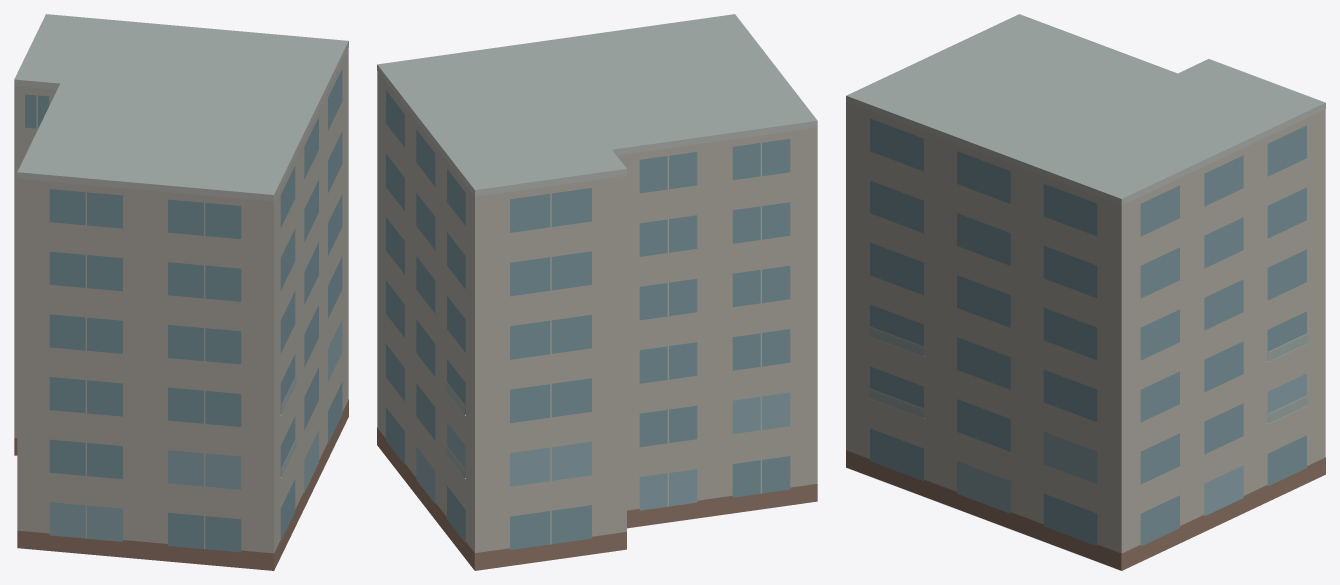
File: survey-upis-33042343.glb
3 renders of one model, left to right at view 1: azimuth 30°, elevation 25°; view 2: azimuth 150°, elevation 25°; view 3: azimuth 270°, elevation 25°, orthographic. The views are drawn at different scales.
Visible parts, largest first — view 1: survey-upis-33042343.tmp; view 2: survey-upis-33042343.tmp; view 3: survey-upis-33042343.tmp.
Part boxes in pixels (box(x1,y1,x2,y2)): survey-upis-33042343.tmp: box(14, 14, 348, 570); survey-upis-33042343.tmp: box(377, 14, 817, 570); survey-upis-33042343.tmp: box(846, 14, 1325, 570).
Bounding box in the file's own units: 15.05 × 14.1 × 16.49.
